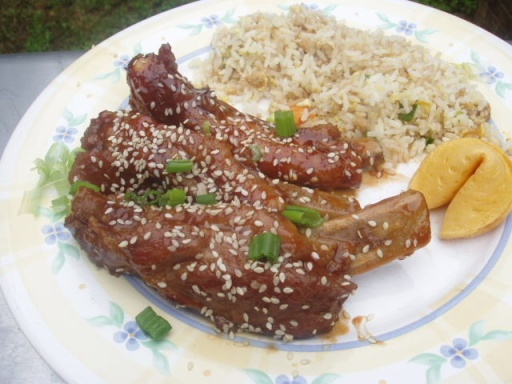background: (26, 1, 409, 205)
